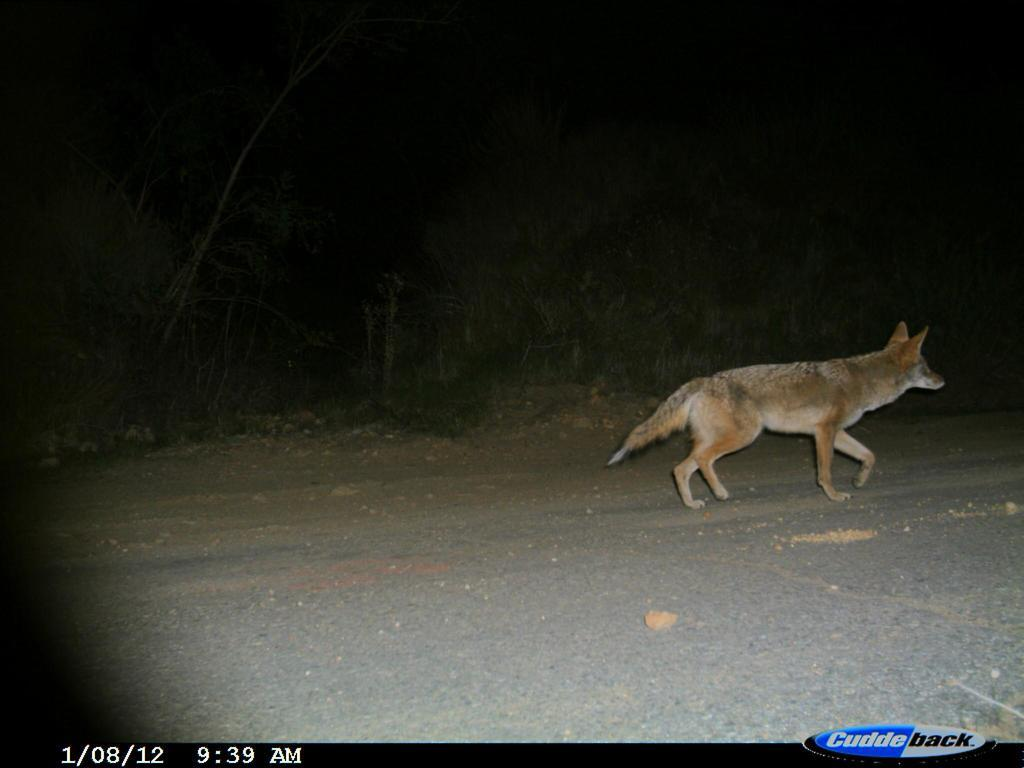coyote: (611, 315, 951, 524)
